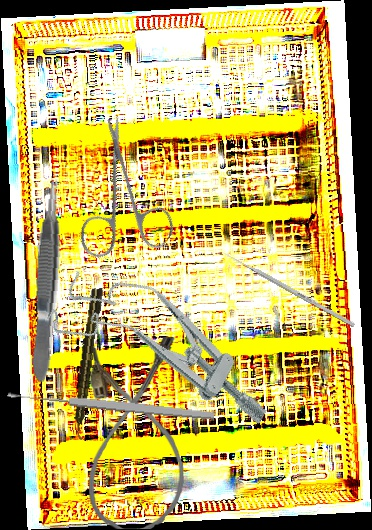Cannula: (86, 337, 185, 530)
Handpiece: (69, 286, 105, 441)
Iris Scissors: (35, 112, 210, 287)
Pusher: (220, 249, 356, 328)
Speculum: (43, 249, 292, 441)
Surgical Spoon: (6, 388, 216, 422)
Tissue Forceps: (25, 175, 69, 384)
